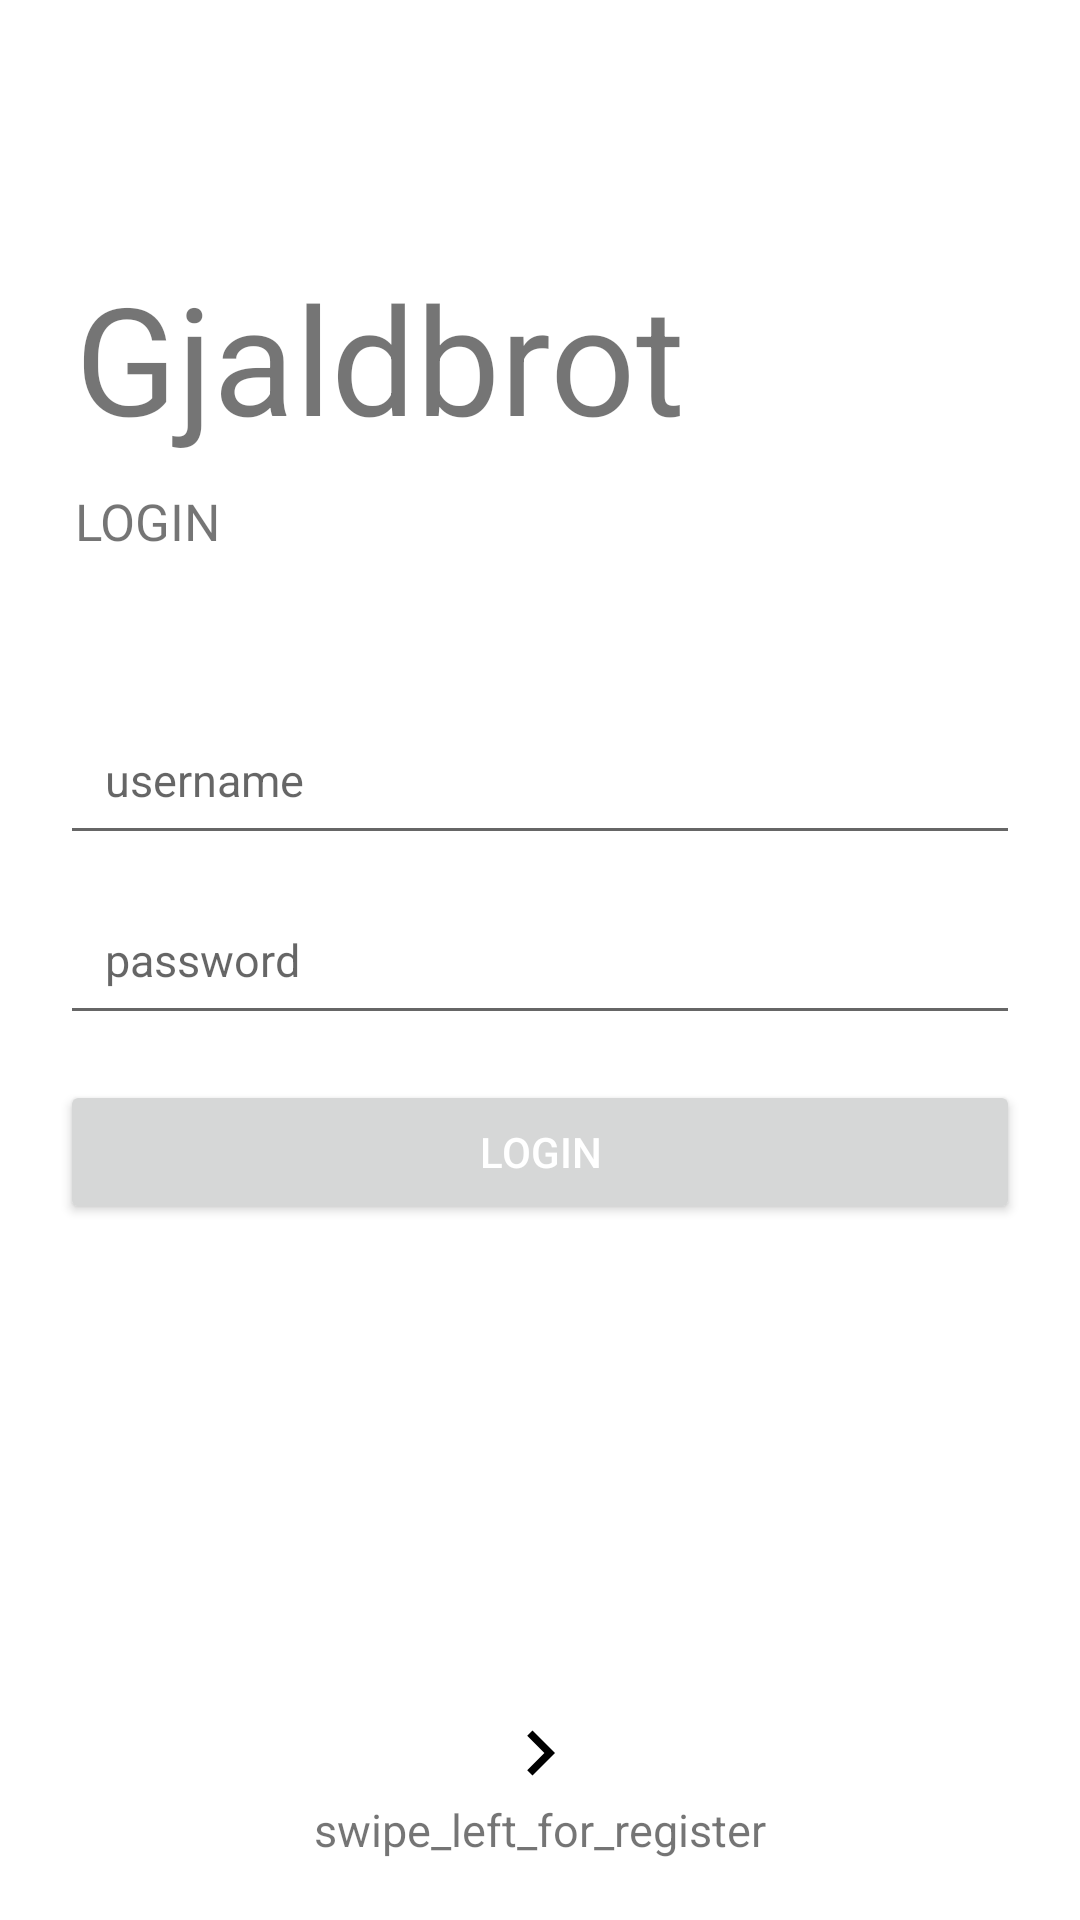

Screen size 1080w x 1920h. Icon name, then its box in pixels as (left=x1, top=y1, right=x2, bottom=y2):
arrow right: (left=527, top=1730, right=555, bottom=1776)
